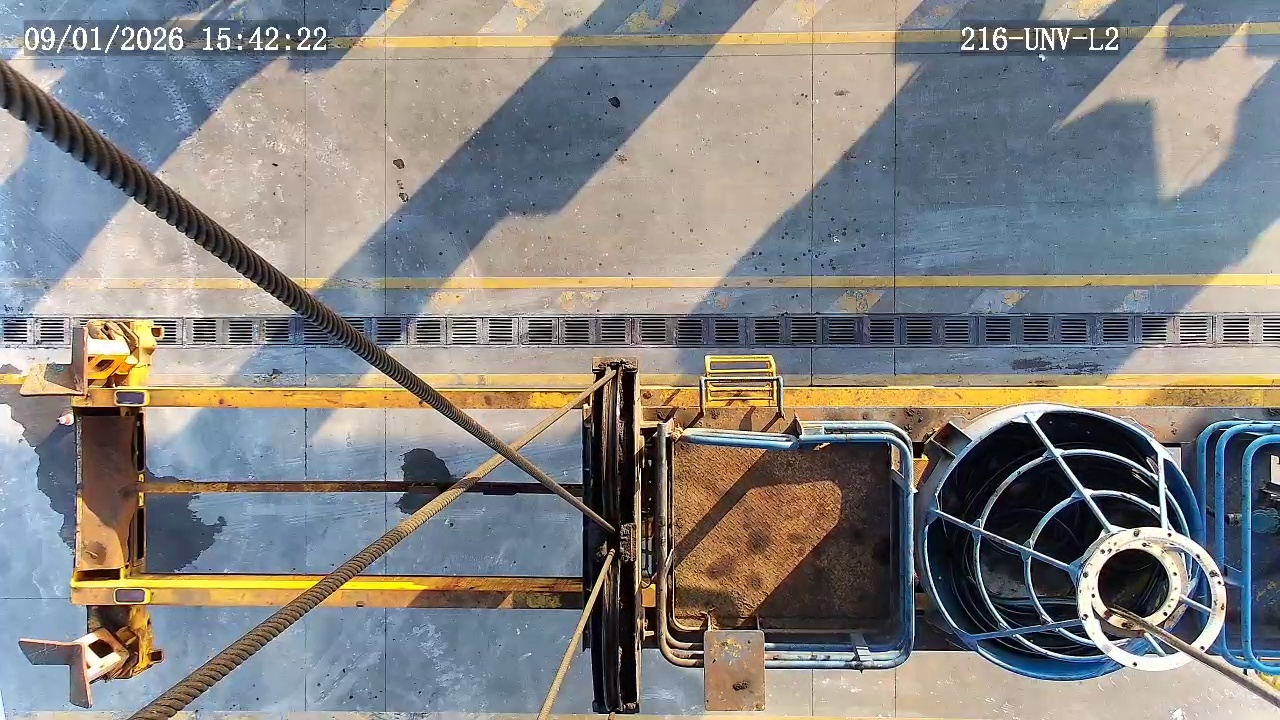left: (922, 410, 1204, 680)
